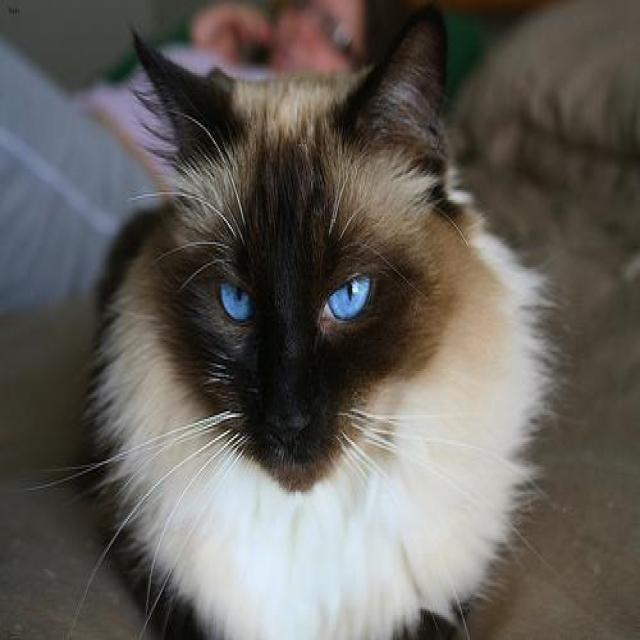cat: (92, 0, 536, 640)
